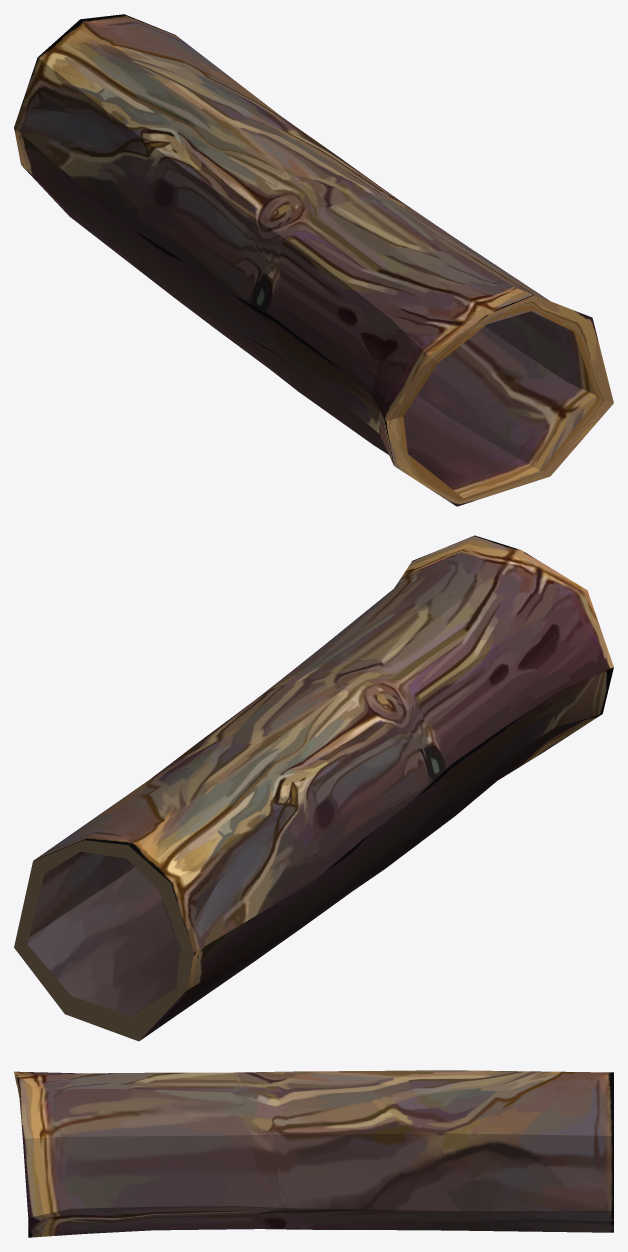
File: log.FBX
3 views of the same model, one above another, from view 1: azimuth 30°, elevation 25°; view 2: azimuth 150°, elevation 25°; view 3: azimuth 270°, elevation 25° (orthographic). The views are drawn at different scales.
Parts seen in each view (by area): view 1: Cylinder001; view 2: Cylinder001; view 3: Cylinder001.
Boxes of the visible parts, x1,y1,x2,y2 form: Cylinder001: (14, 14, 613, 506); Cylinder001: (14, 535, 613, 1041); Cylinder001: (14, 1070, 613, 1237).
Size of the model in its own units: 18.45 by 15.28 by 56.32.
